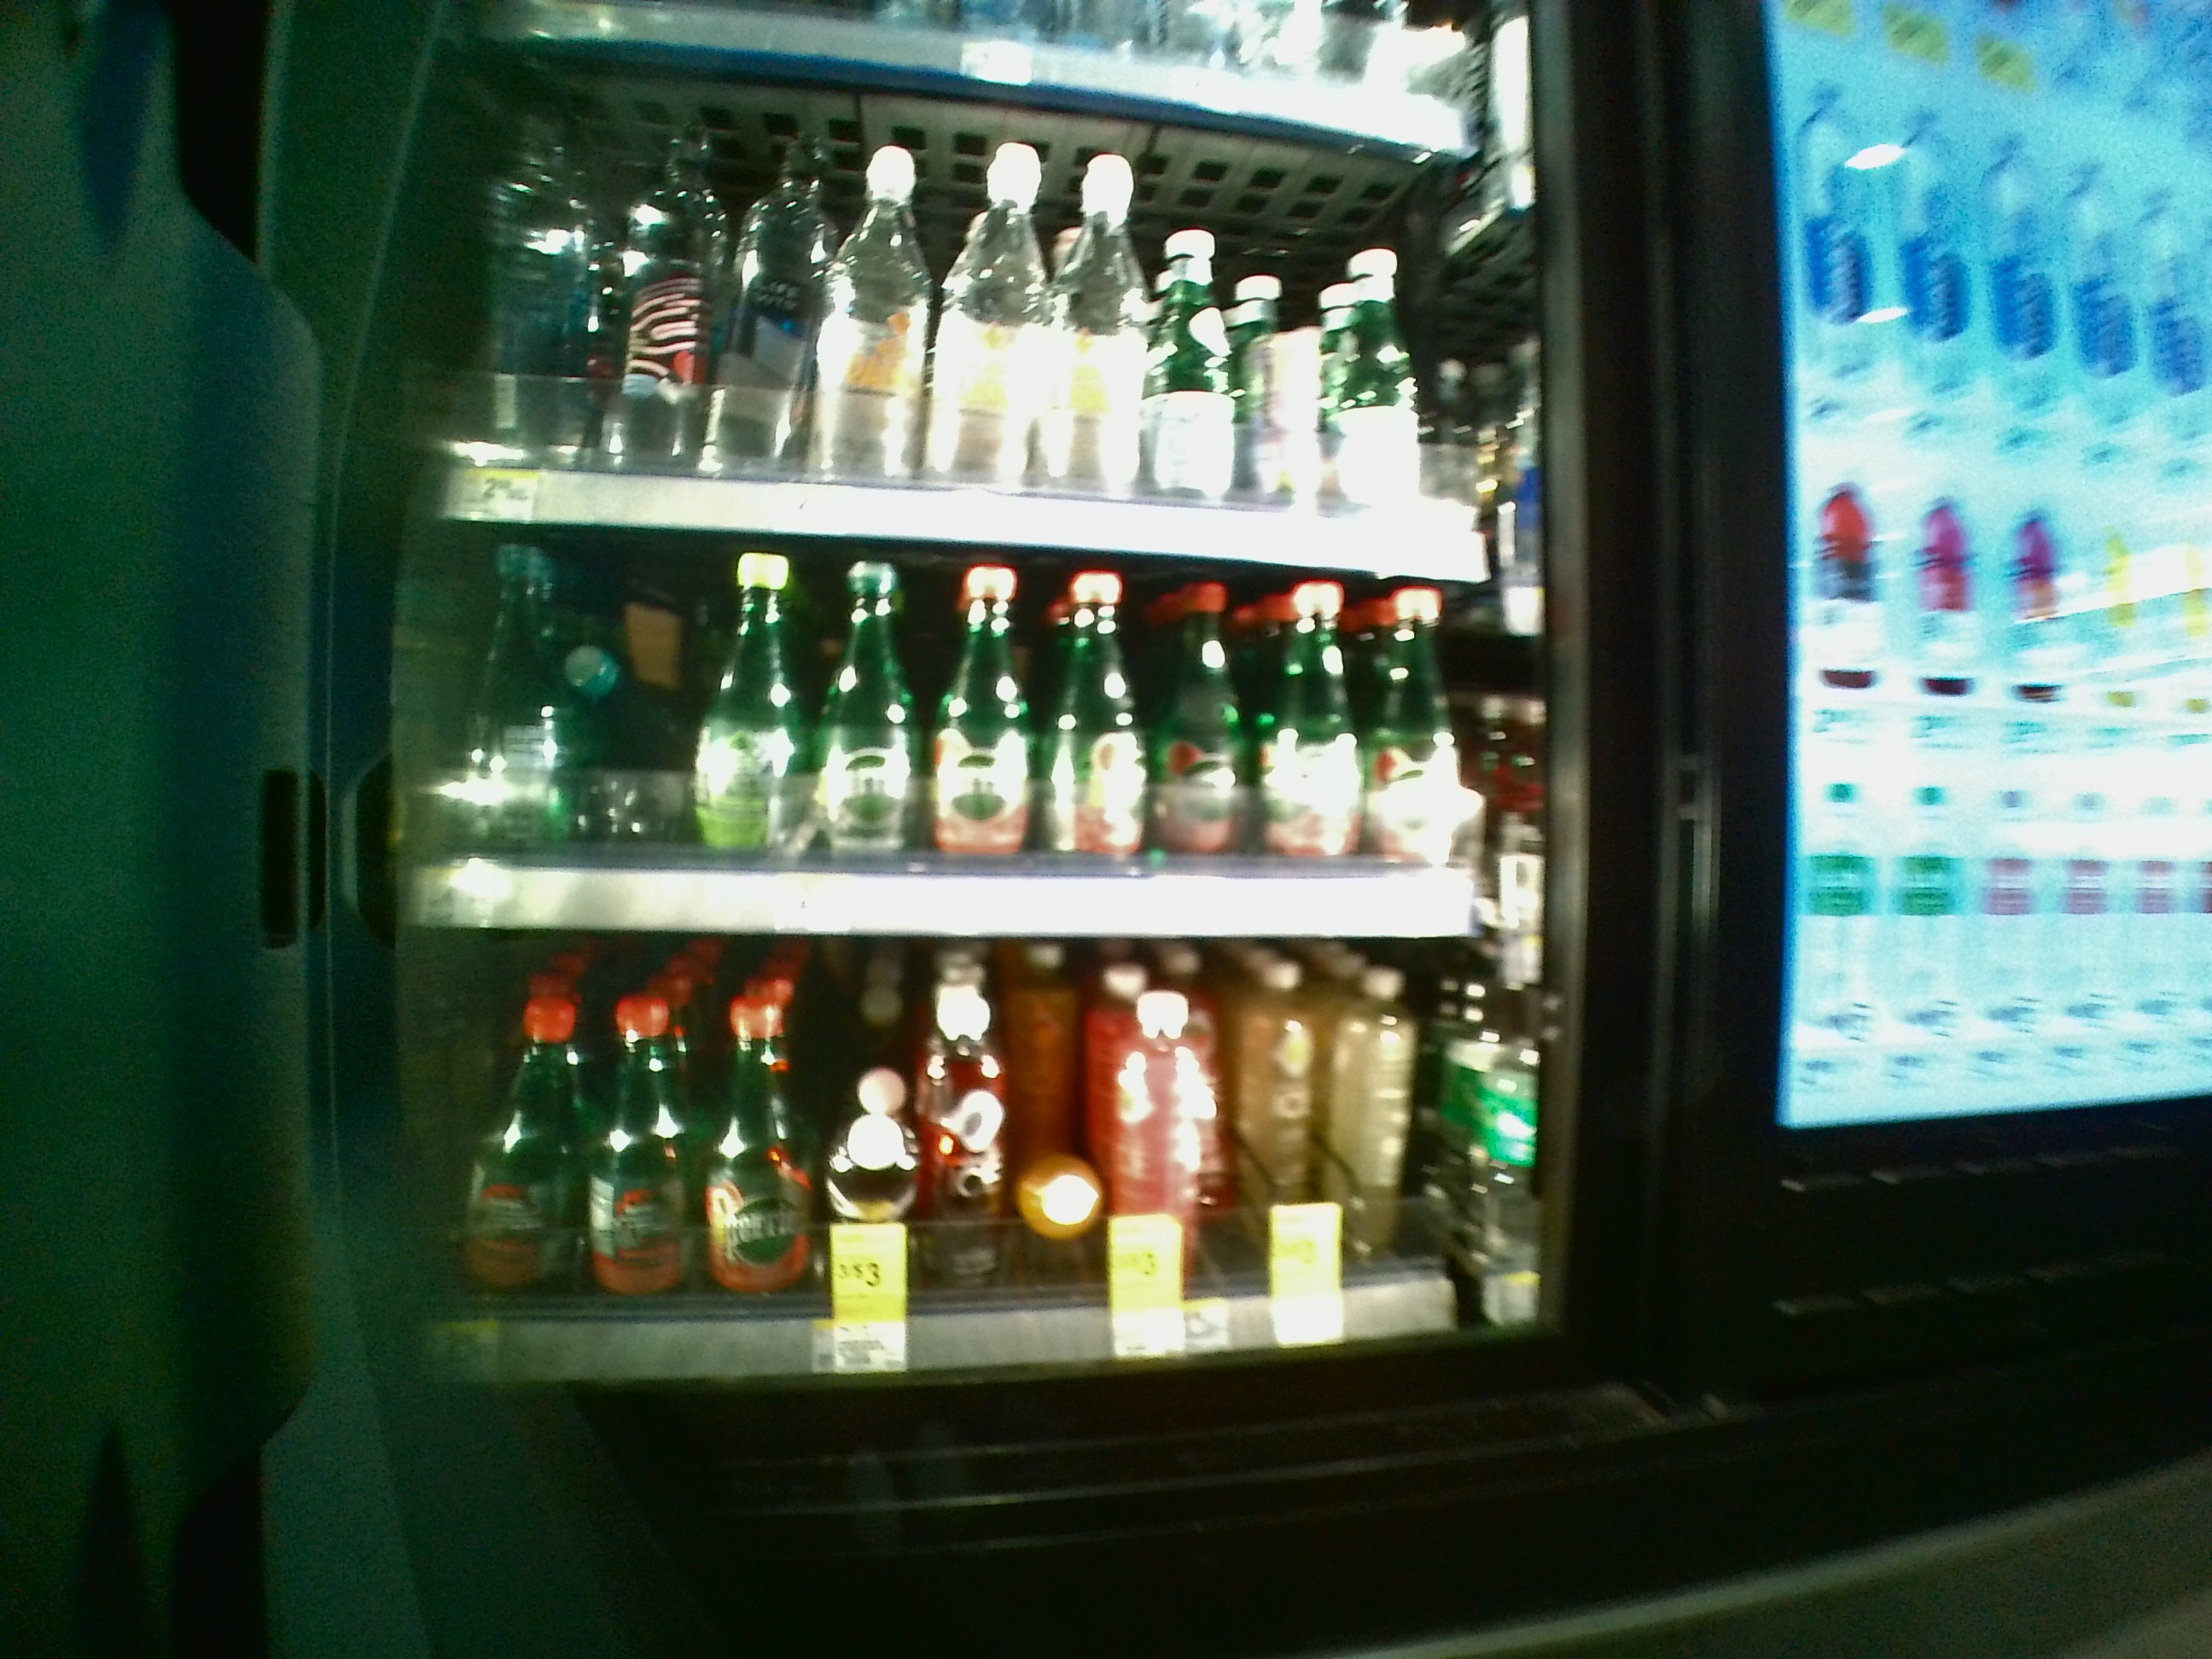Shelf: (380, 938, 1529, 1384), (381, 533, 1533, 938)
